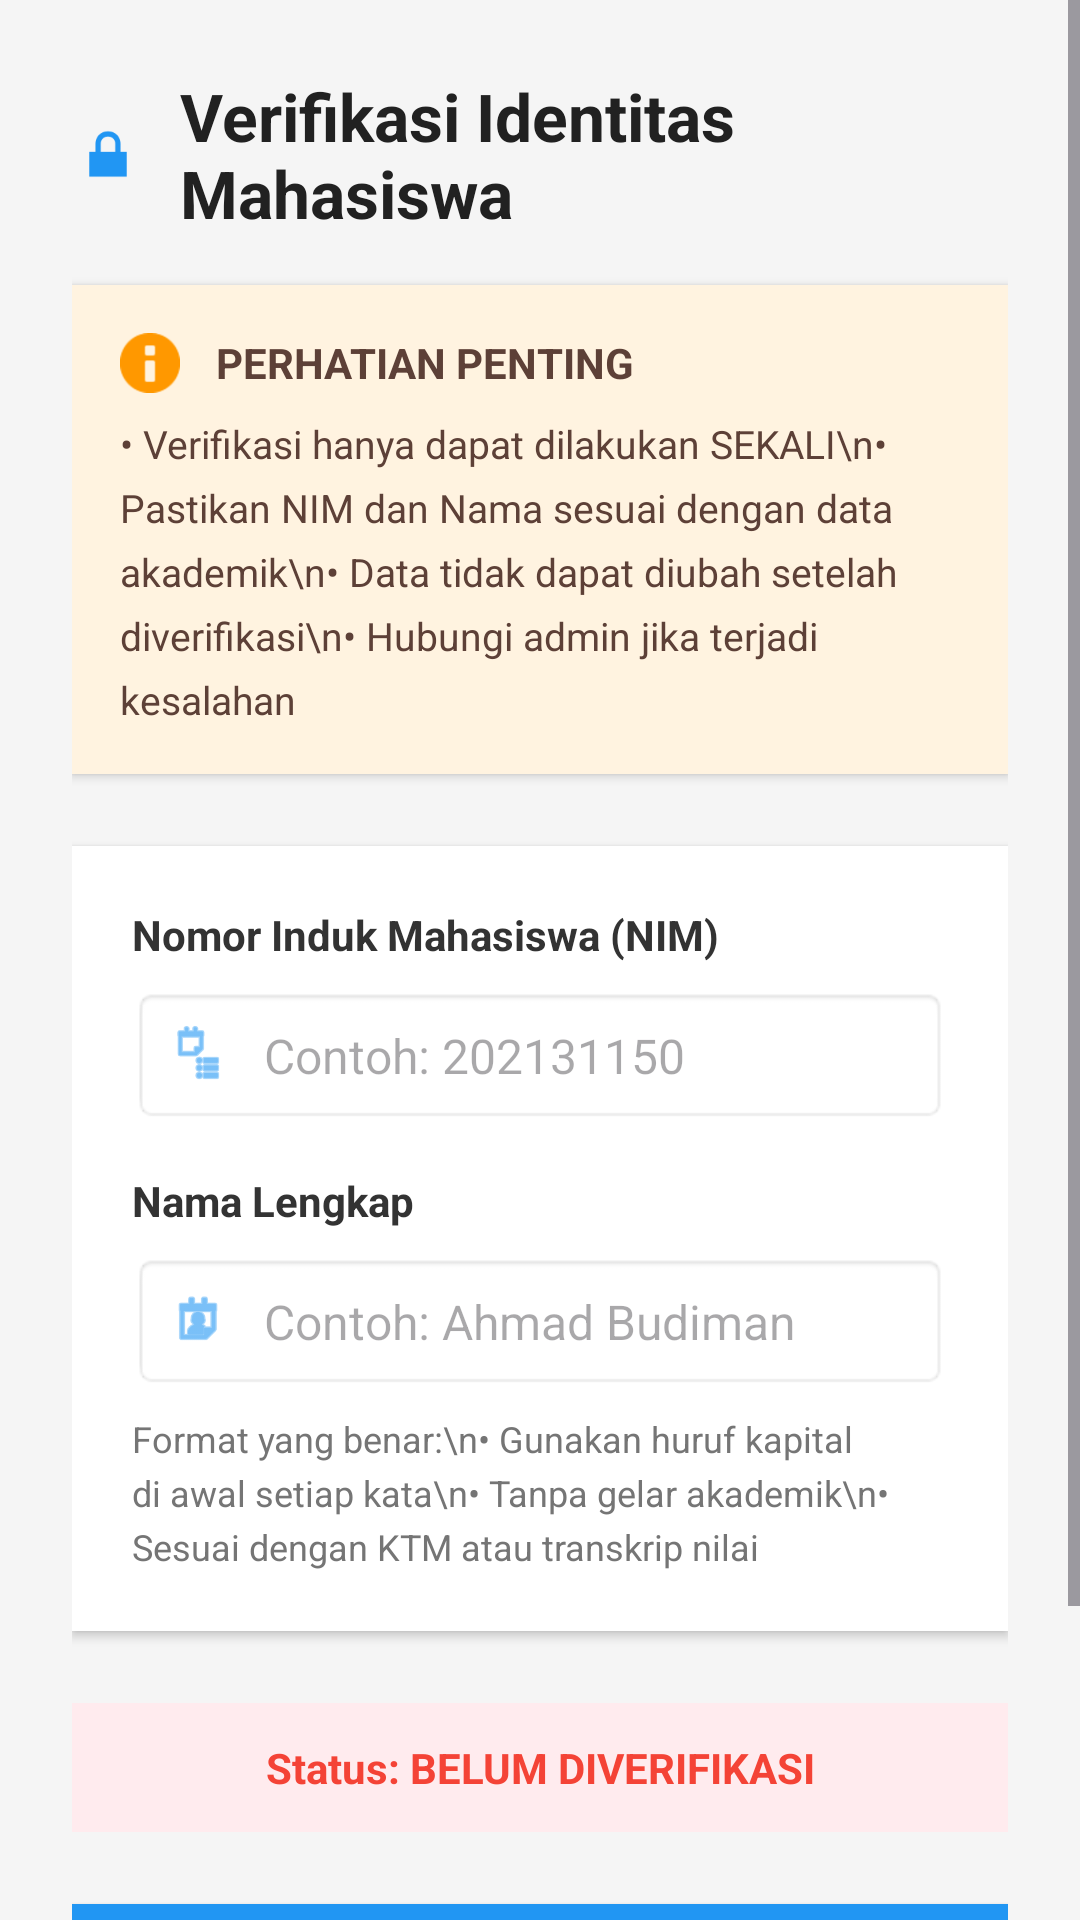

Icon bounding boxes for this 1080w x 1920h phone screenshot, format bbox=(x1, y1, x2, y2):
agenda: bbox=(177, 1026, 219, 1079)
calendar: bbox=(178, 1296, 218, 1340)
info: bbox=(120, 333, 180, 393)
lock: bbox=(89, 131, 127, 177)
